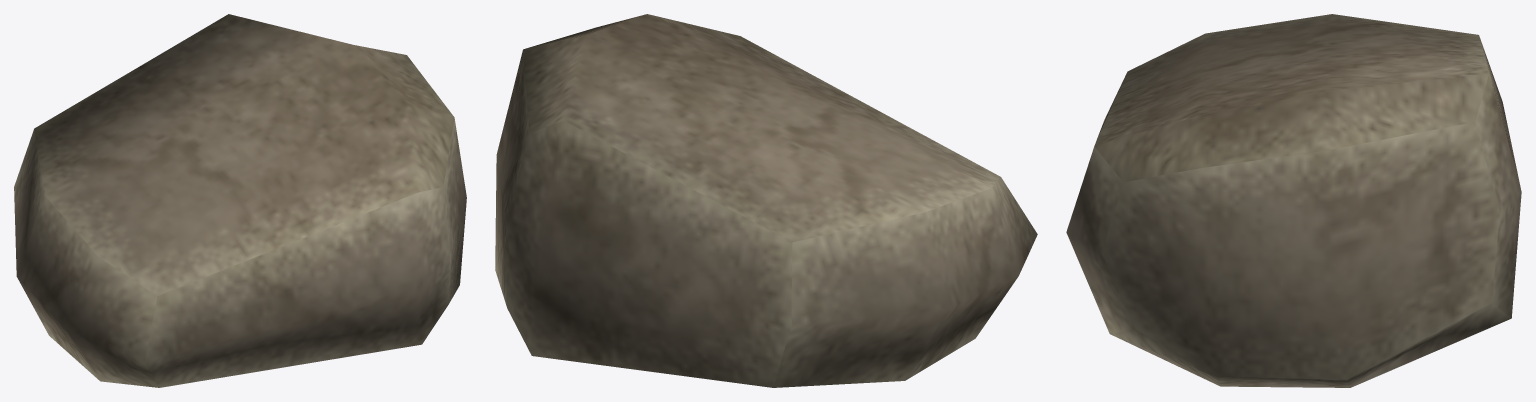
File: Rock_03.fbx
3 views of the same model, side by side, from view 1: azimuth 30°, elevation 25°; view 2: azimuth 150°, elevation 25°; view 3: azimuth 270°, elevation 25° (orthographic). The views are drawn at different scales.
Parts seen in each view (by area): view 1: Rock_03; view 2: Rock_03; view 3: Rock_03.
Part boxes in pixels (x1,y1,x2,y2): Rock_03: (14,14,466,387); Rock_03: (495,14,1037,387); Rock_03: (1066,14,1521,387).
Size of the model in its own units: 0.8323 by 0.4866 by 0.7047.
Materials: 1 (1 with a texture image).
